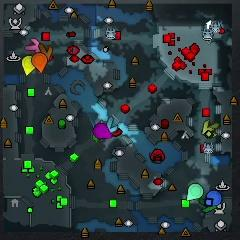p1: (206, 190, 222, 206)
p2: (187, 184, 203, 200)
p3: (93, 123, 112, 139)
p4: (22, 56, 37, 76)
p5: (31, 54, 47, 73)
x1: (25, 38, 42, 52)
x2: (202, 120, 219, 135)
x3: (100, 117, 118, 133)
x4: (199, 198, 217, 213)
x5: (38, 43, 52, 59)
